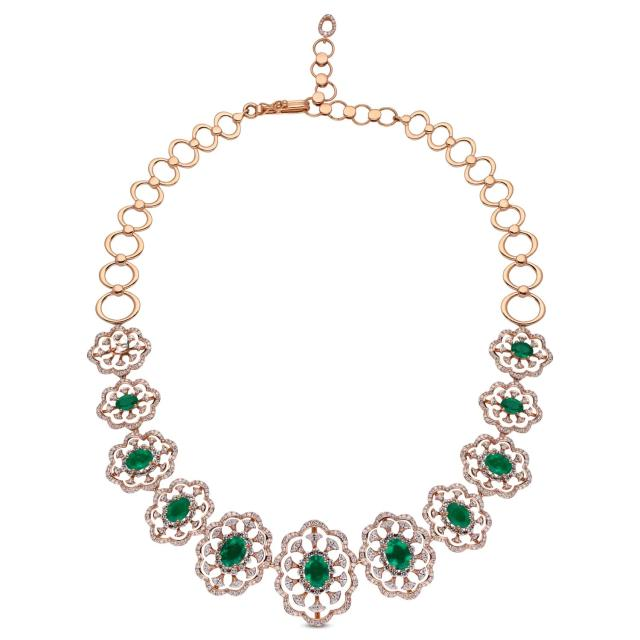missing gem: (112, 341, 129, 353)
